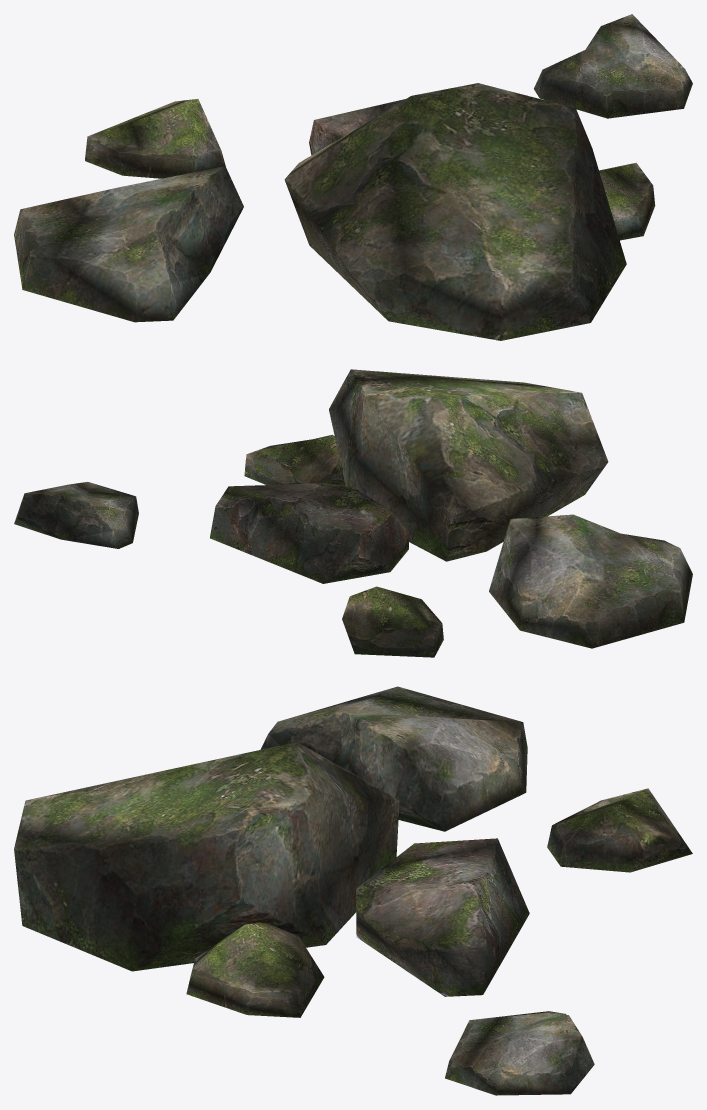
The model's file is Rock03_lod1.glb.
The picture shows the model from 3 angles, top to bottom: view 1: azimuth 30°, elevation 25°; view 2: azimuth 150°, elevation 25°; view 3: azimuth 270°, elevation 25°; orthographic projection. The views are drawn at different scales.
Visible parts, largest first — view 1: common_rock_03_lod01; view 2: common_rock_03_lod01; view 3: common_rock_03_lod01.
Part boxes in pixels (left/top/right/bottom): common_rock_03_lod01: left=14, top=14, right=692, bottom=340; common_rock_03_lod01: left=14, top=369, right=692, bottom=657; common_rock_03_lod01: left=14, top=686, right=692, bottom=1095.
Size of the model in its own units: 3.23 by 0.634 by 2.47.
1 material, 1 textured.
